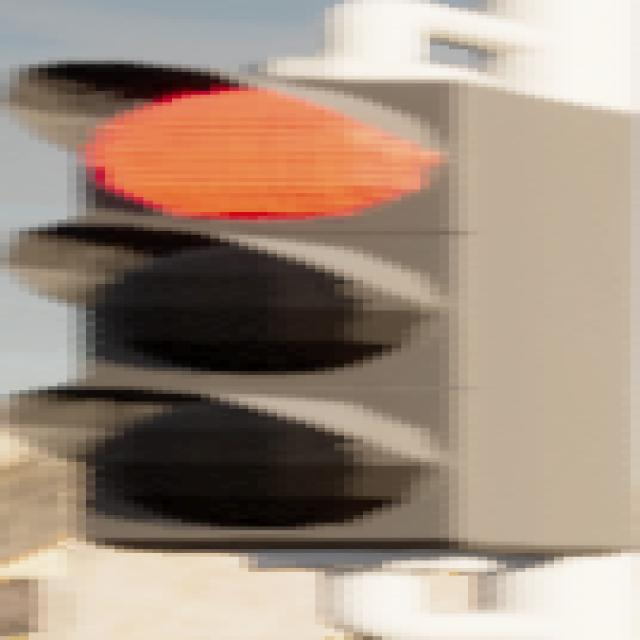red_light: (0, 52, 639, 567)
